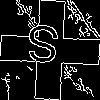S: (25, 25, 61, 72)
